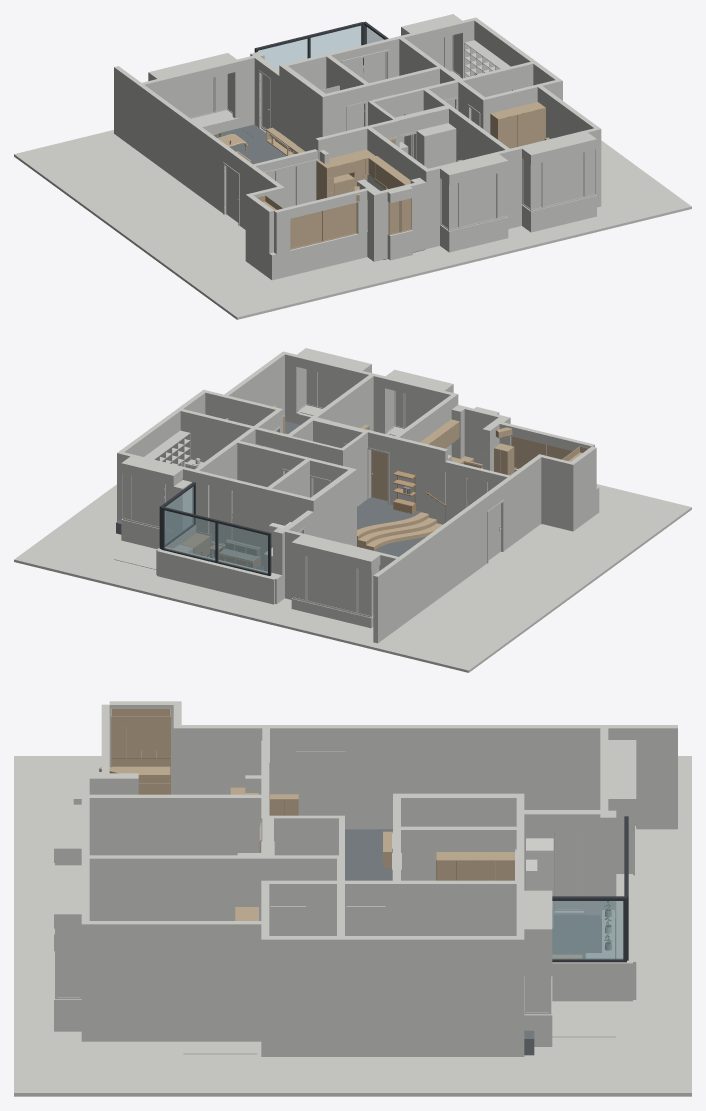
The model's file is interaction_proxy.glb.
The picture shows the model from 3 angles, top to bottom: view 1: azimuth 30°, elevation 25°; view 2: azimuth 150°, elevation 25°; view 3: azimuth 270°, elevation 25°; orthographic projection. The views are drawn at different scales.
Parts seen in each view (by area): view 1: SITE_GROUND.001, VIEW_WALL_W_wall_md_0006.001, VIEW_WALL_LIVING_FIX_GUEST_BATH_FULL_WALL.001, VIEW_WALL_W_wall_md_0042.001, VIEW_WALL_W_wall_md_0035.001, V4_W-MB-S_FRONT_GLASS_1.001, VIEW_WALL_W_wall_md_0034.001, V4_W-SMB-S_FRONT_GLASS_1.001, VIEW_WALL_W_wall_md_0007.001, VIEW_WALL_W_wall_md_0021.001, VIEW_WALL_W_wall_md_0030.001, VIEW_WALL_W_wall_md_0060.001 (+45 smaller); view 2: SITE_GROUND.001, VIEW_WALL_W_wall_md_0006.001, VIEW_WALL_W_wall_md_0062.001, VIEW_WALL_W_wall_md_0005.001, VIEW_WALL_W_wall_md_0044.001, VIEW_WALL_W_wall_md_0043.001, VIEW_WALL_LIVING_FIX_GUEST_BATH_FULL_WALL.001, LIVING_FIX_BAY_FRONT_GLASS_1.001, VIEW_WALL_W_wall_md_0055.001, VIEW_WALL_W_wall_md_0049.001, NORTH_BALCONY_GLASS_NORTH_B.001, VIEW_WALL_W_wall_md_0007.001 (+53 smaller); view 3: SITE_GROUND.001, VIEW_WALL_W_wall_md_0030.001, VIEW_WALL_W_wall_md_0033.001, VIEW_WALL_W_wall_md_0006.001, VIEW_WALL_W_wall_md_0021.001, VIEW_WALL_W_wall_md_0015.001, VIEW_WALL_W_wall_md_0032.001, VIEW_WALL_W_wall_md_0005.001, VIEW_WALL_W_wall_md_0025.001, VIEW_WALL_W_wall_md_0007.001, NORTH_BALCONY_GLASS_EAST.001, FLOOR_LOWER.001 (+39 smaller).
Part boxes in pixels (x1=…): SITE_GROUND.001: x1=14, y1=128, x2=691, y2=319; VIEW_WALL_W_wall_md_0006.001: x1=139, y1=85, x2=227, y2=212; VIEW_WALL_LIVING_FIX_GUEST_BATH_FULL_WALL.001: x1=282, y1=66, x2=325, y2=153; VIEW_WALL_W_wall_md_0042.001: x1=276, y1=232, x2=367, y2=278; VIEW_WALL_W_wall_md_0035.001: x1=533, y1=139, x2=594, y2=231; V4_W-MB-S_FRONT_GLASS_1.001: x1=543, y1=152, x2=583, y2=206; VIEW_WALL_W_wall_md_0034.001: x1=451, y1=161, x2=505, y2=251; V4_W-SMB-S_FRONT_GLASS_1.001: x1=460, y1=174, x2=496, y2=226; VIEW_WALL_W_wall_md_0007.001: x1=114, y1=66, x2=141, y2=150; VIEW_WALL_W_wall_md_0021.001: x1=449, y1=107, x2=509, y2=161; VIEW_WALL_W_wall_md_0030.001: x1=537, y1=86, x2=598, y2=138; VIEW_WALL_W_wall_md_0060.001: x1=232, y1=55, x2=254, y2=128; SITE_GROUND.001: x1=14, y1=484, x2=691, y2=672; VIEW_WALL_W_wall_md_0006.001: x1=399, y1=495, x2=487, y2=624; VIEW_WALL_W_wall_md_0062.001: x1=157, y1=547, x2=277, y2=604; VIEW_WALL_W_wall_md_0005.001: x1=499, y1=456, x2=541, y2=550; VIEW_WALL_W_wall_md_0044.001: x1=396, y1=437, x2=441, y2=523; VIEW_WALL_W_wall_md_0043.001: x1=541, y1=455, x2=575, y2=531; VIEW_WALL_LIVING_FIX_GUEST_BATH_FULL_WALL.001: x1=311, y1=470, x2=354, y2=545; LIVING_FIX_BAY_FRONT_GLASS_1.001: x1=307, y1=556, x2=356, y2=612; VIEW_WALL_W_wall_md_0055.001: x1=196, y1=470, x2=266, y2=565; VIEW_WALL_W_wall_md_0049.001: x1=180, y1=409, x2=253, y2=462; NORTH_BALCONY_GLASS_NORTH_B.001: x1=164, y1=510, x2=215, y2=560; VIEW_WALL_W_wall_md_0007.001: x1=373, y1=559, x2=400, y2=643; SITE_GROUND.001: x1=14, y1=756, x2=691, y2=1096; VIEW_WALL_W_wall_md_0030.001: x1=89, y1=921, x2=261, y2=1041; VIEW_WALL_W_wall_md_0033.001: x1=345, y1=936, x2=516, y2=1056; VIEW_WALL_W_wall_md_0006.001: x1=345, y1=725, x2=600, y2=829; VIEW_WALL_W_wall_md_0021.001: x1=89, y1=855, x2=261, y2=920; VIEW_WALL_W_wall_md_0015.001: x1=89, y1=794, x2=261, y2=855; VIEW_WALL_W_wall_md_0032.001: x1=261, y1=936, x2=336, y2=1056; VIEW_WALL_W_wall_md_0005.001: x1=181, y1=725, x2=296, y2=794; VIEW_WALL_W_wall_md_0025.001: x1=401, y1=880, x2=516, y2=935; VIEW_WALL_W_wall_md_0007.001: x1=608, y1=725, x2=677, y2=829; NORTH_BALCONY_GLASS_EAST.001: x1=552, y1=901, x2=623, y2=959; FLOOR_LOWER.001: x1=345, y1=829, x2=616, y2=958.
Bounding box in the file's own units: 20 × 3.37 × 17.
